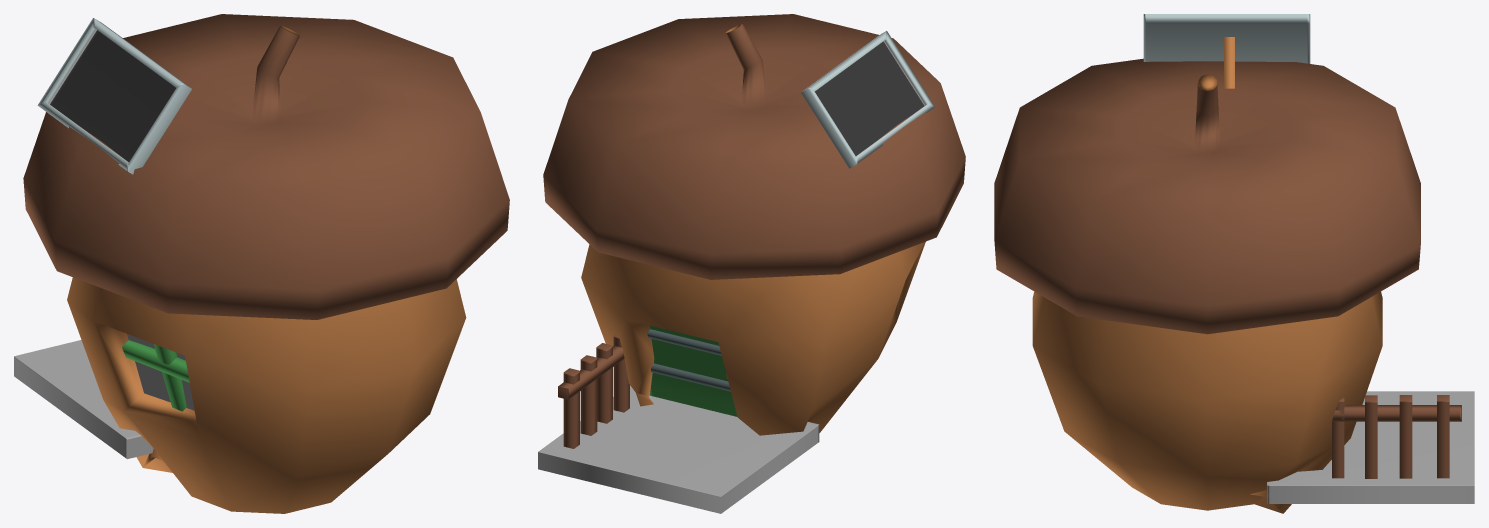
File: Hus_3 export true.fbx
3 views of the same model, side by side, from view 1: azimuth 30°, elevation 25°; view 2: azimuth 150°, elevation 25°; view 3: azimuth 270°, elevation 25° (orthographic). The views are drawn at different scales.
Parts seen in each view (by area): view 1: polySurface15, polySurface13, polySurface16, pPlane2, polySurface7, polySurface12; view 2: polySurface15, polySurface16, polySurface13, Doer2, polySurface9, polySurface10, polySurface8, polySurface11, polySurface14; view 3: polySurface15, polySurface16, polySurface13, polySurface11, polySurface9, polySurface8, polySurface10, polySurface14, polySurface6.
Boxes of the visible parts, box(x1,y1,x2,y2) form: polySurface15: box(23, 14, 509, 513); polySurface13: box(37, 18, 191, 174); polySurface16: box(14, 340, 153, 459); pPlane2: box(127, 334, 194, 410); polySurface7: box(122, 340, 189, 382); polySurface12: box(153, 344, 186, 411); polySurface15: box(543, 14, 965, 435); polySurface16: box(538, 385, 819, 513); polySurface13: box(801, 31, 934, 168); Doer2: box(647, 325, 737, 416); polySurface9: box(580, 355, 597, 435); polySurface10: box(563, 368, 579, 448); polySurface8: box(596, 343, 612, 423); polySurface11: box(558, 346, 624, 399); polySurface14: box(613, 335, 629, 412); polySurface15: box(994, 58, 1420, 513); polySurface16: box(1267, 391, 1474, 503); polySurface13: box(1143, 14, 1310, 63); polySurface11: box(1332, 405, 1461, 421); polySurface9: box(1399, 395, 1412, 478); polySurface8: box(1365, 395, 1377, 478); polySurface10: box(1437, 395, 1449, 478); polySurface14: box(1332, 398, 1344, 478); polySurface6: box(1224, 37, 1234, 88).
Size of the model in its own units: 12.92 by 13.06 by 13.84.
